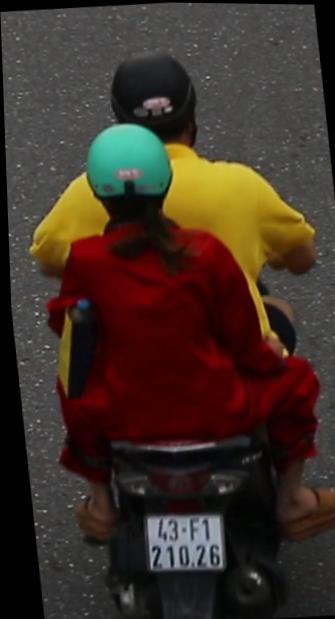LP: (133, 502, 231, 579)
helmet: (74, 117, 185, 237), (99, 39, 209, 151)
